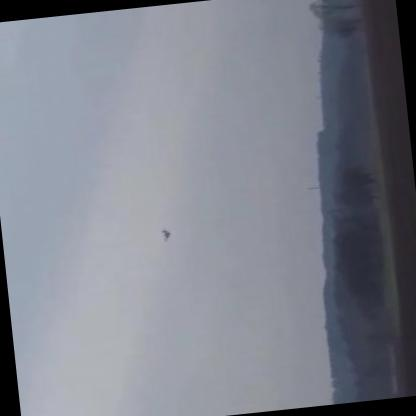plane: (160, 226, 171, 241)
